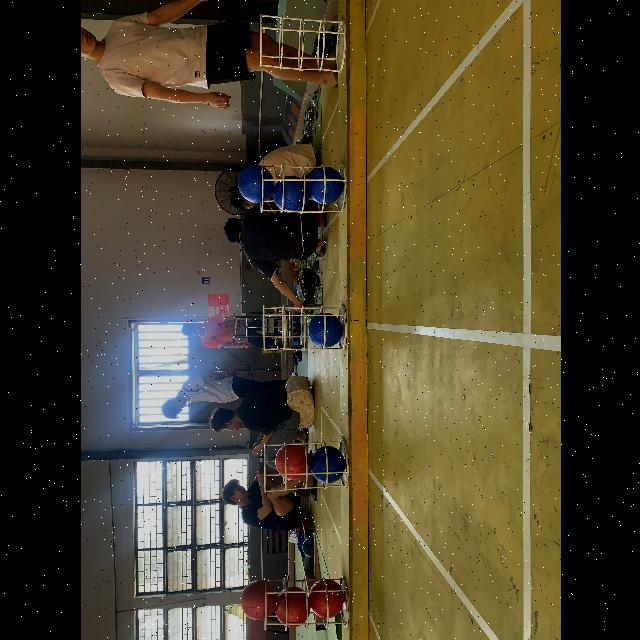B: (236, 165, 272, 203), (272, 176, 308, 214), (309, 446, 345, 484), (308, 169, 344, 205), (306, 313, 342, 347)
R: (306, 580, 346, 618), (274, 586, 308, 628), (240, 580, 274, 620), (274, 444, 308, 480)
